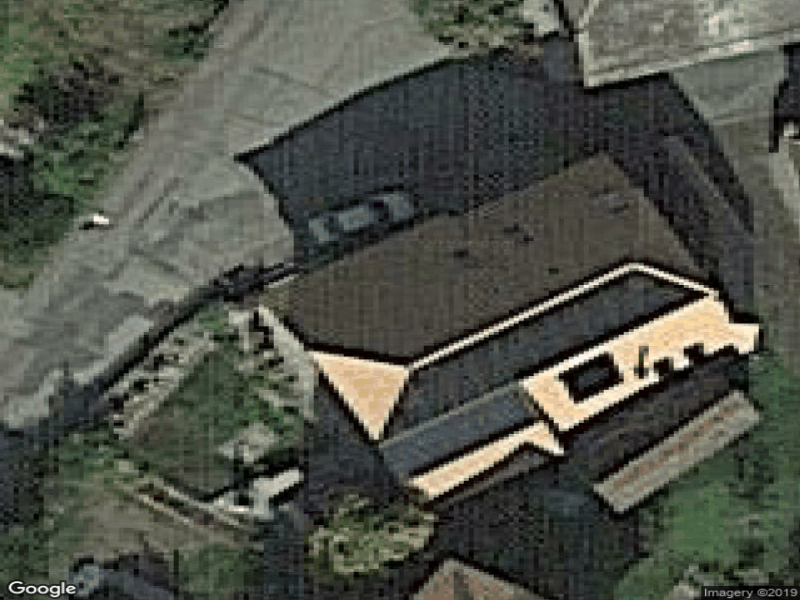pv: (382, 264, 708, 471)
